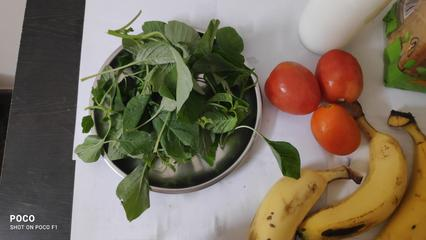banana: (336, 135, 426, 240), (252, 168, 306, 238)
spinach: (110, 52, 233, 157)
tomato: (263, 61, 372, 149)
